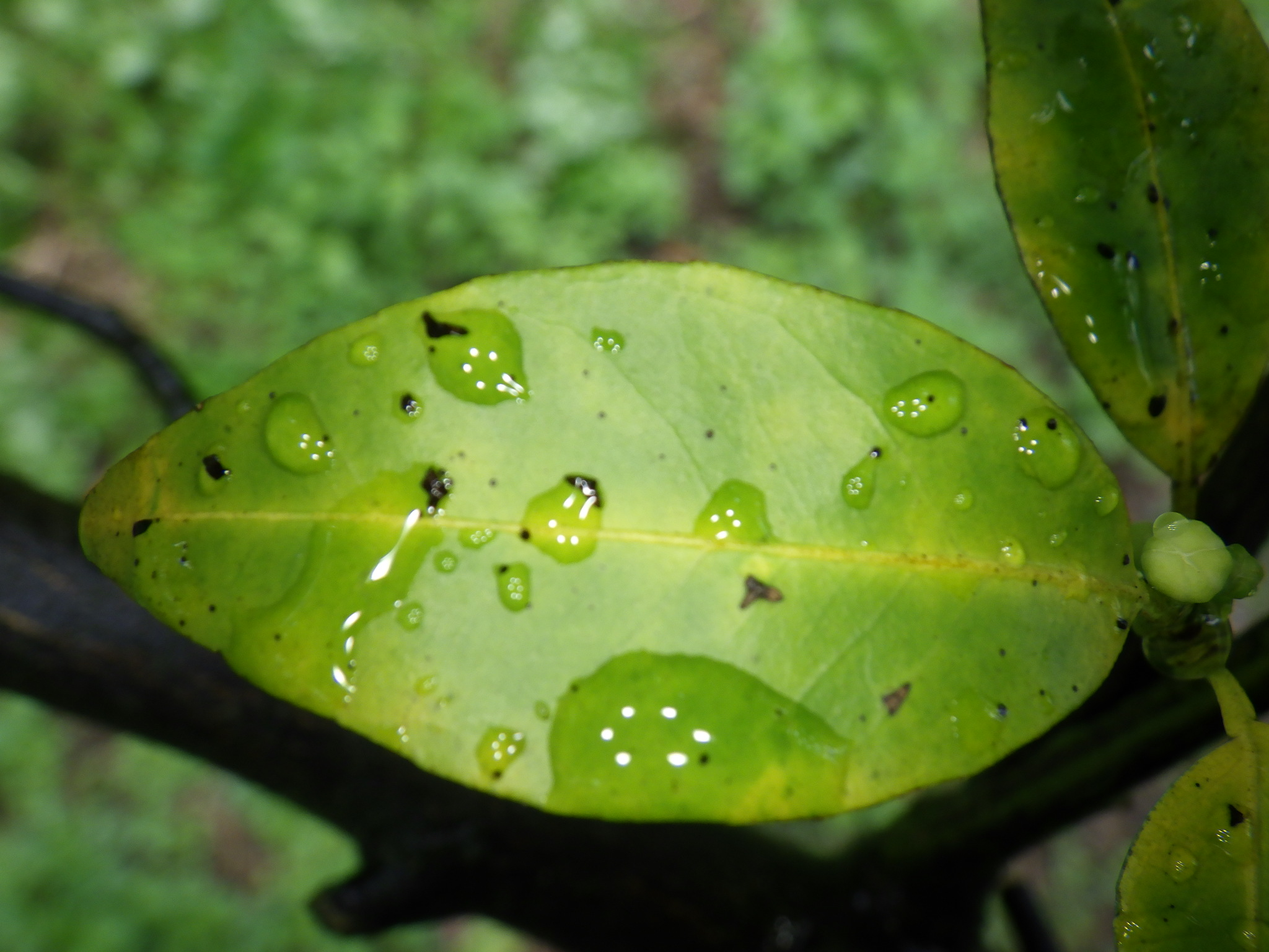Oily_Spot: (81, 263, 1141, 821)
